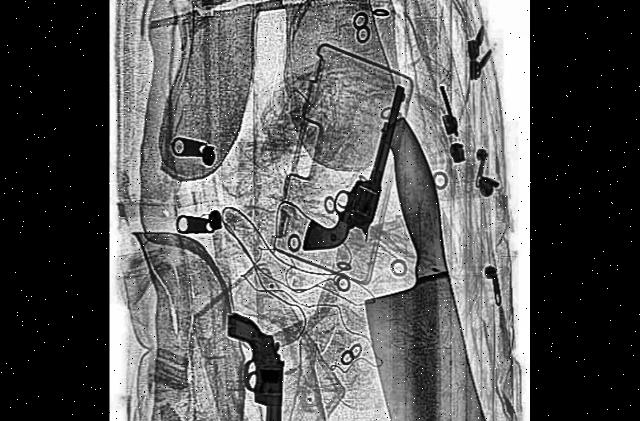Gun: (301, 54, 404, 290), (225, 309, 283, 421)
Knife: (319, 106, 509, 421)
